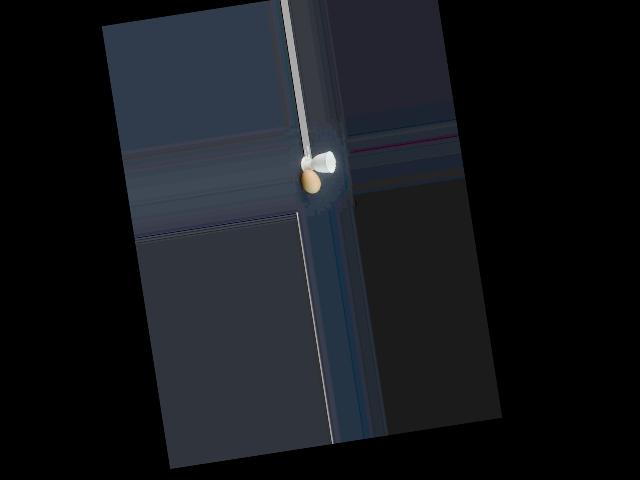egg: (300, 167, 321, 194)
